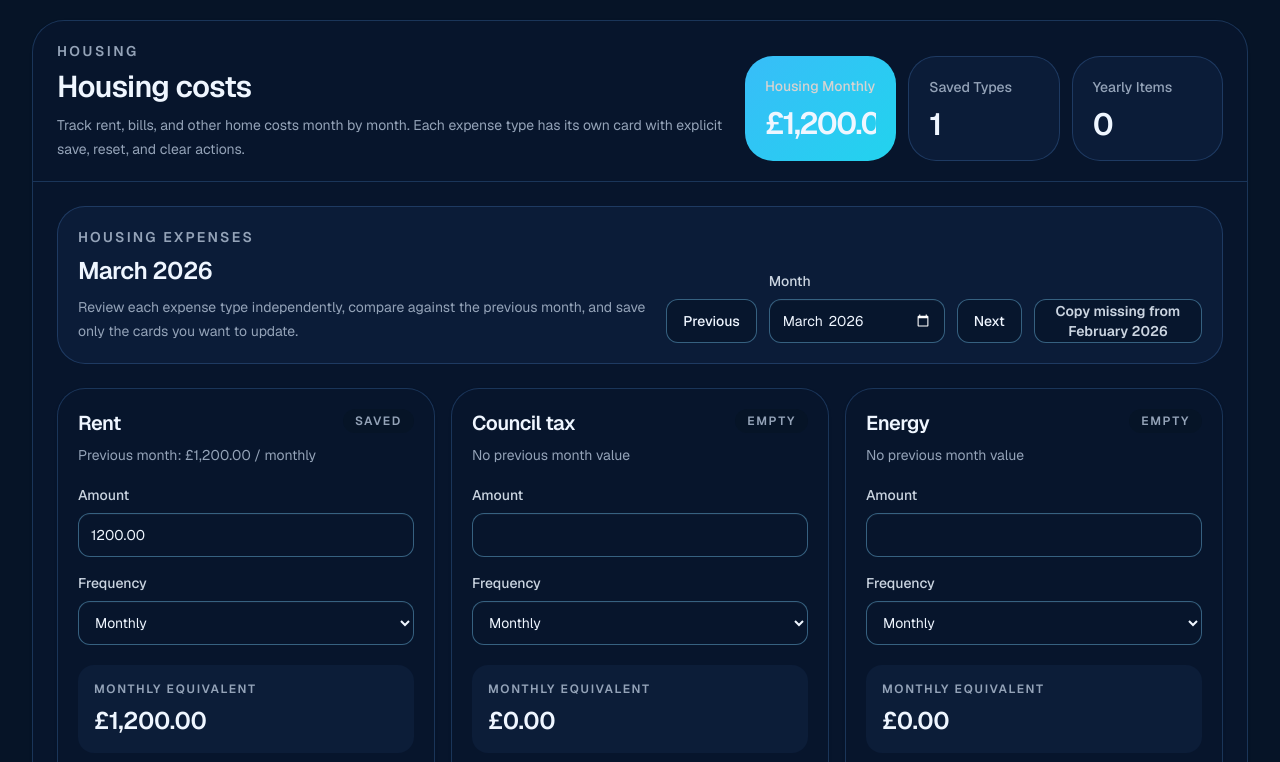
Test: [Component] housing view › should copy only missing housing values from the previous month
Click the button "Copy missing from February 2026". click: click(1118, 321)
box: [1034,299,1202,343]
(page scrolled)
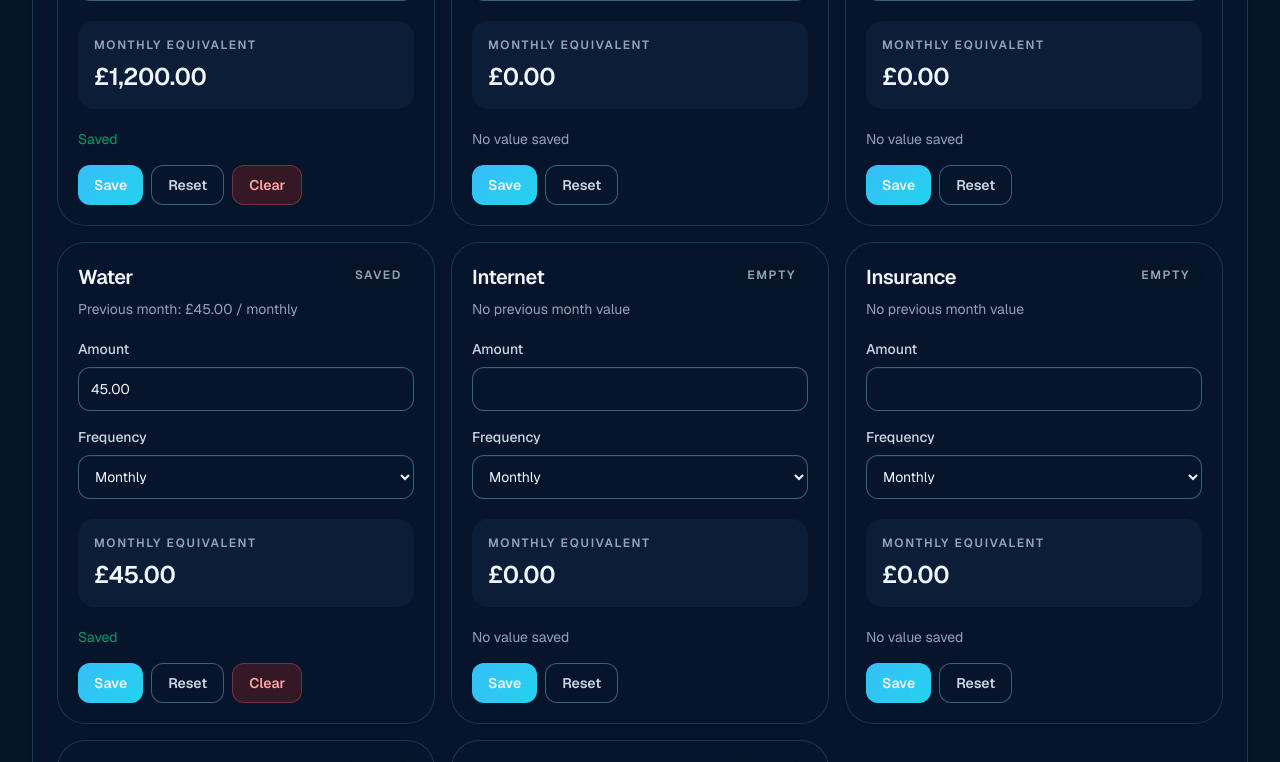
Check: the element "Water" is shown, box [57,242,435,724]
Check: the number field showing "45.00" below "Previous month: £45.00 / monthly" is shown, box [78,367,414,411]
